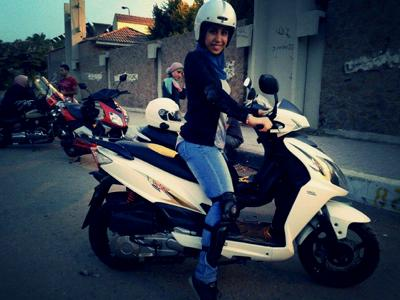With Helmet: (183, 0, 246, 60)
